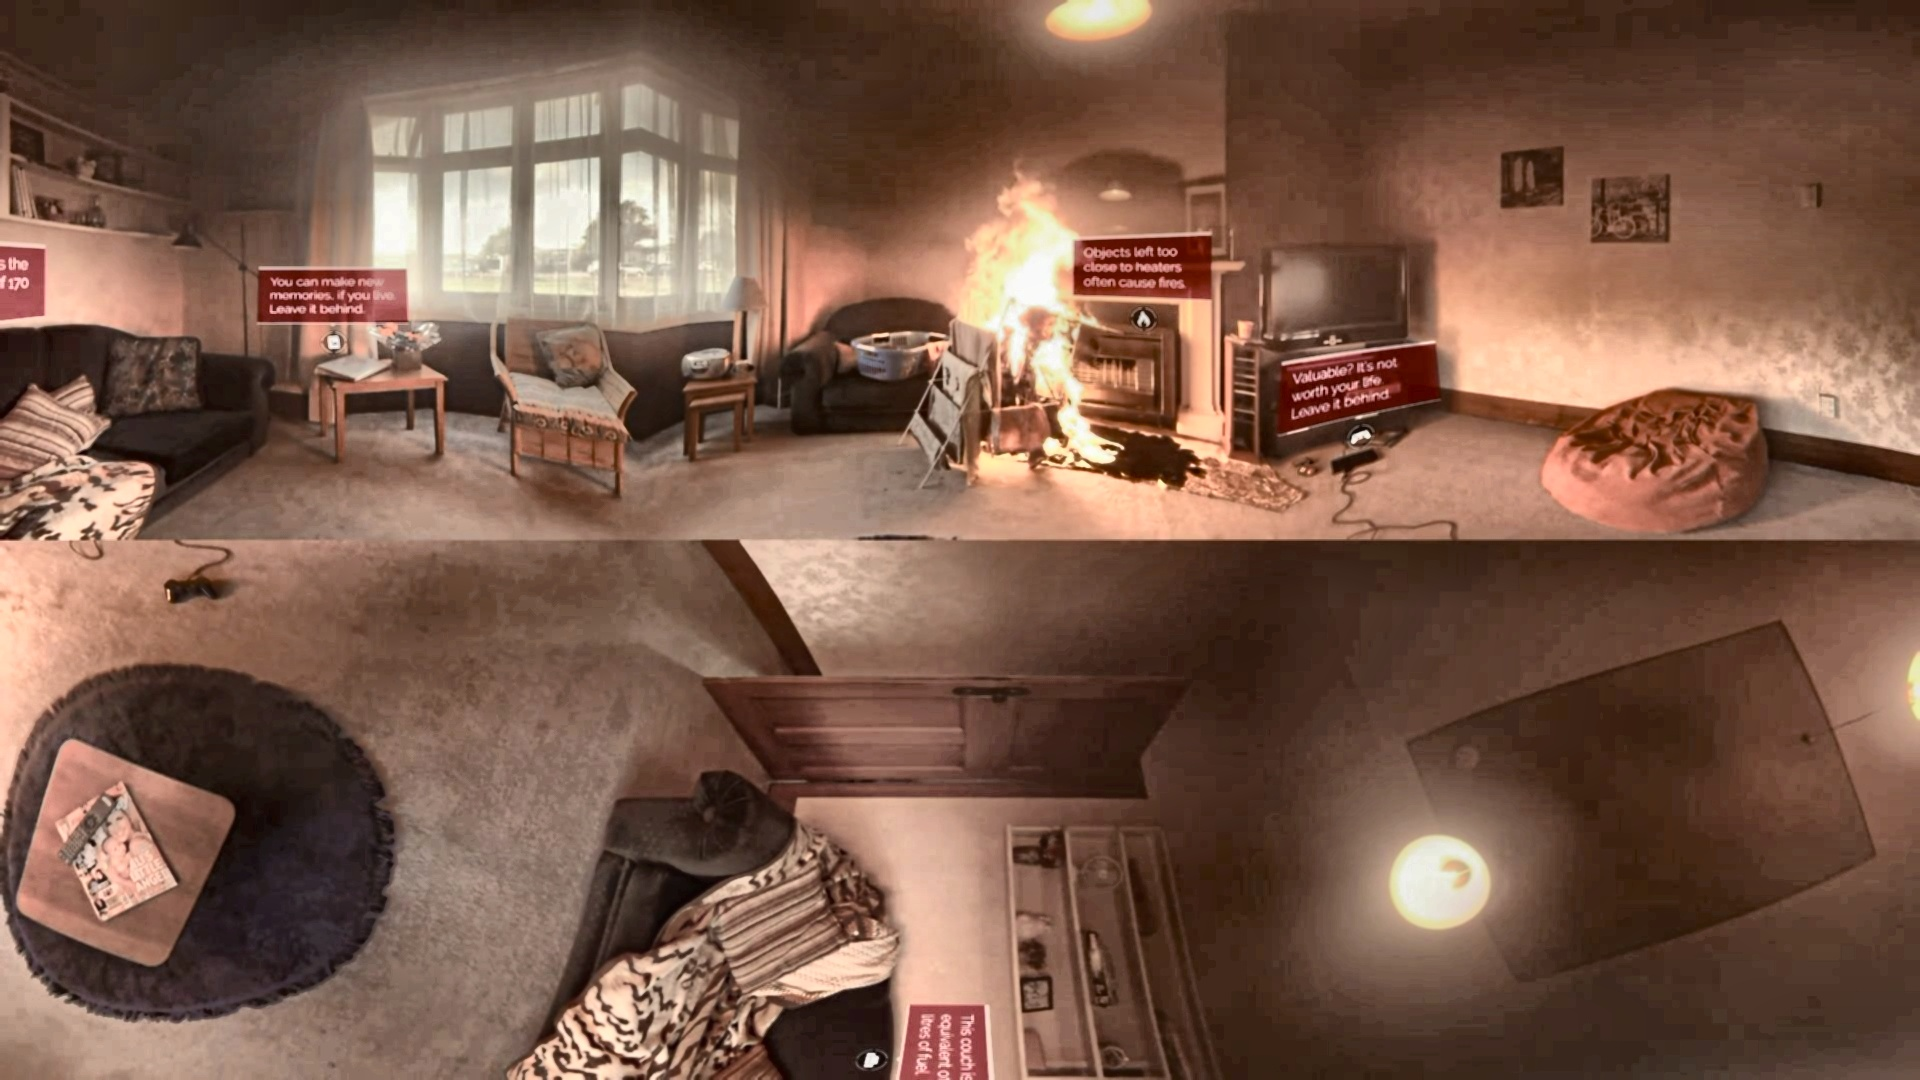fire: (910, 156, 1151, 481)
